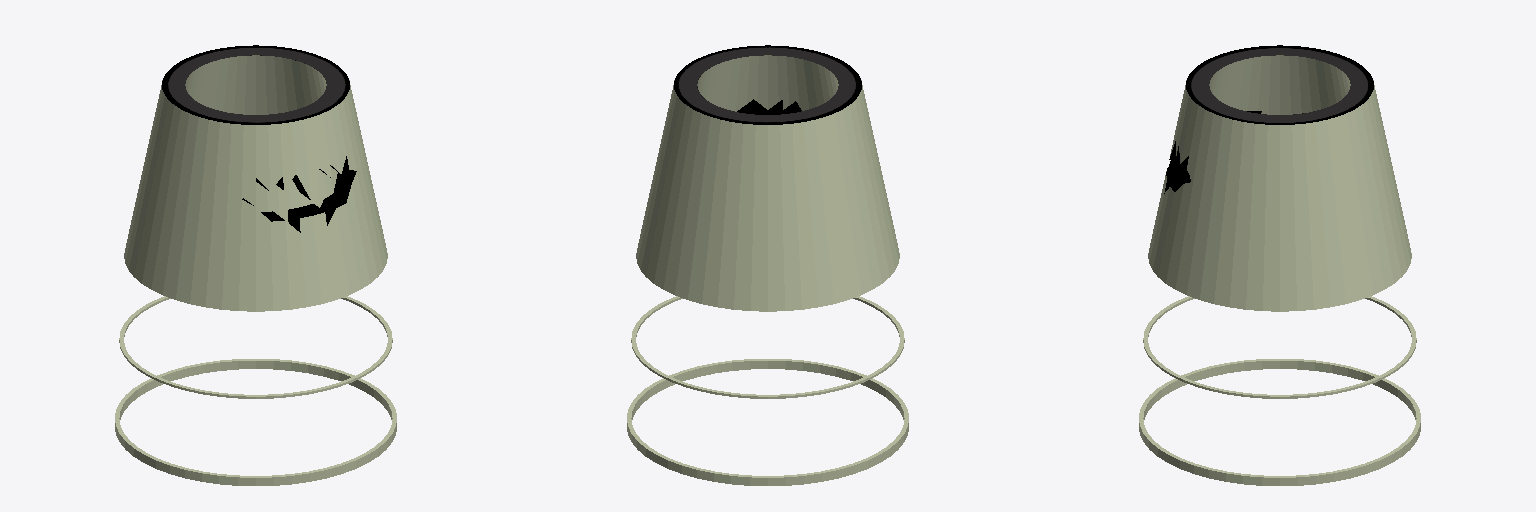
3 renders of one model, left to right at view 1: azimuth 30°, elevation 25°; view 2: azimuth 150°, elevation 25°; view 3: azimuth 270°, elevation 25°, orthographic.
Parts seen in each view (by area): view 1: Tube1, Tube2, Tube2_copy3; view 2: Tube1, Tube2, Tube2_copy3; view 3: Tube1, Tube2, Tube2_copy3.
Boxes of the visible parts, x1,y1,x2,y2 form: Tube1: [124, 45, 387, 311]; Tube2: [115, 359, 396, 485]; Tube2_copy3: [119, 296, 392, 398]; Tube1: [636, 45, 899, 311]; Tube2: [627, 359, 908, 485]; Tube2_copy3: [631, 296, 904, 398]; Tube1: [1148, 45, 1411, 311]; Tube2: [1139, 359, 1420, 485]; Tube2_copy3: [1143, 296, 1416, 398].
Size of the model in its own units: 3 by 4 by 3.
Materials: 2 (1 with a texture image).